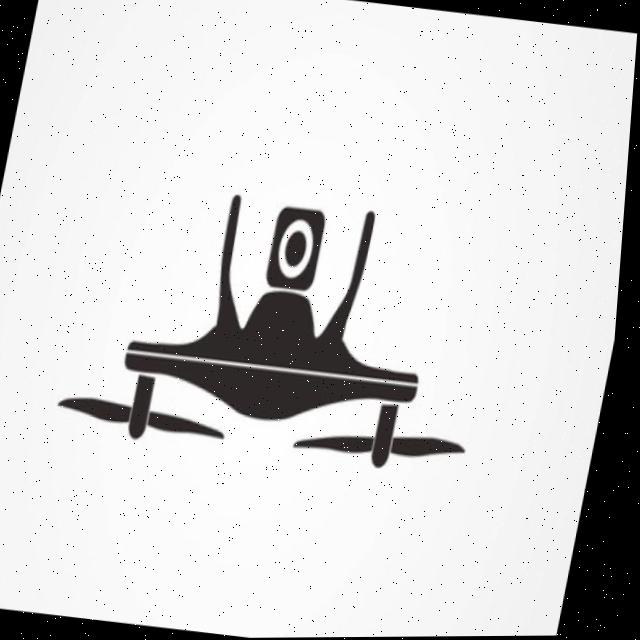drones: (51, 145, 575, 495)
